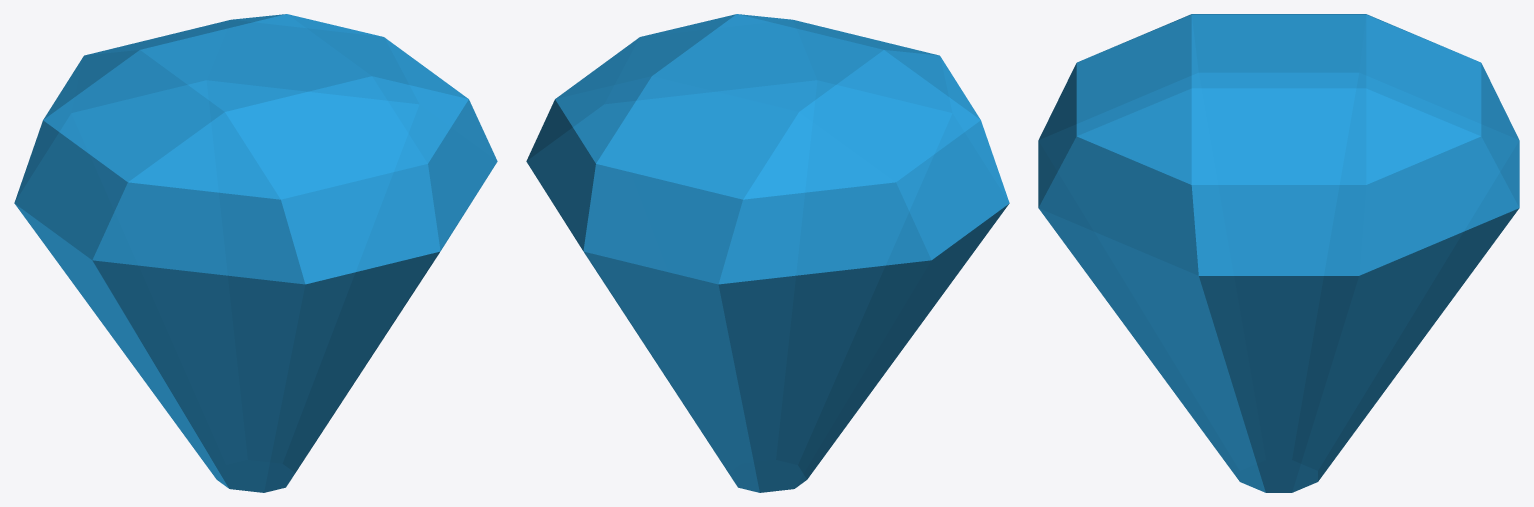
Rendered from kristal.fbx.
The picture shows the model from 3 angles, left to right: view 1: azimuth 30°, elevation 25°; view 2: azimuth 150°, elevation 25°; view 3: azimuth 270°, elevation 25°; orthographic projection. The views are drawn at different scales.
Parts seen in each view (by area): view 1: Куб.010; view 2: Куб.010; view 3: Куб.010.
Part boxes in pixels (x1=…): Куб.010: x1=14, y1=14, x2=497, y2=492; Куб.010: x1=526, y1=14, x2=1009, y2=492; Куб.010: x1=1038, y1=14, x2=1519, y2=492.
Size of the model in its own units: 184 by 179 by 184.
